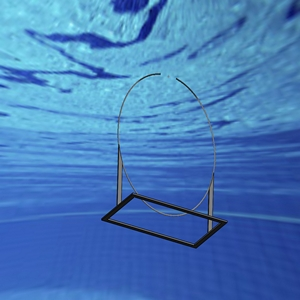circle: (100, 70, 228, 249)
